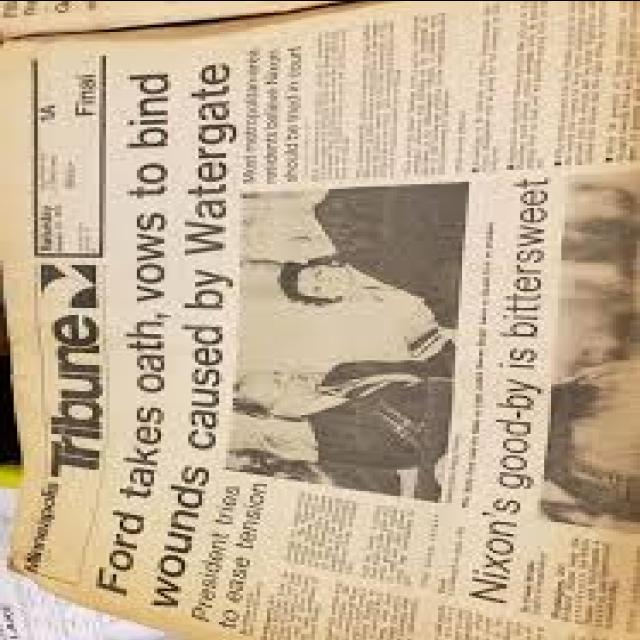paper: (7, 12, 640, 633)
